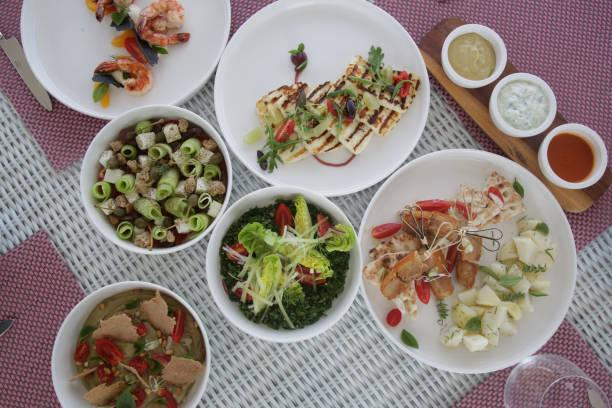Braised Crucian Carp: (358, 148, 576, 375), (214, 0, 425, 199), (18, 0, 233, 116), (204, 185, 359, 343), (78, 105, 229, 254), (50, 282, 209, 407)
